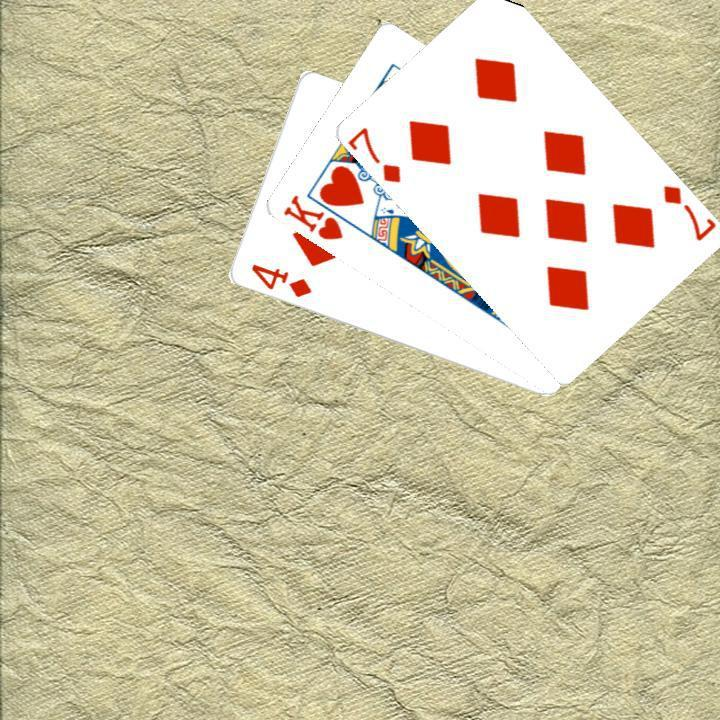4: (246, 260, 313, 300)
7: (345, 122, 403, 186), (657, 180, 715, 243)
K: (278, 190, 345, 243)
